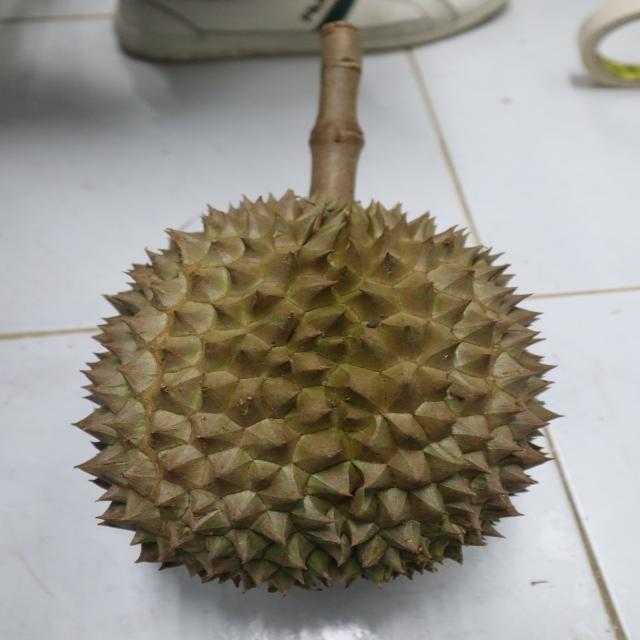mature: (77, 191, 558, 591)
